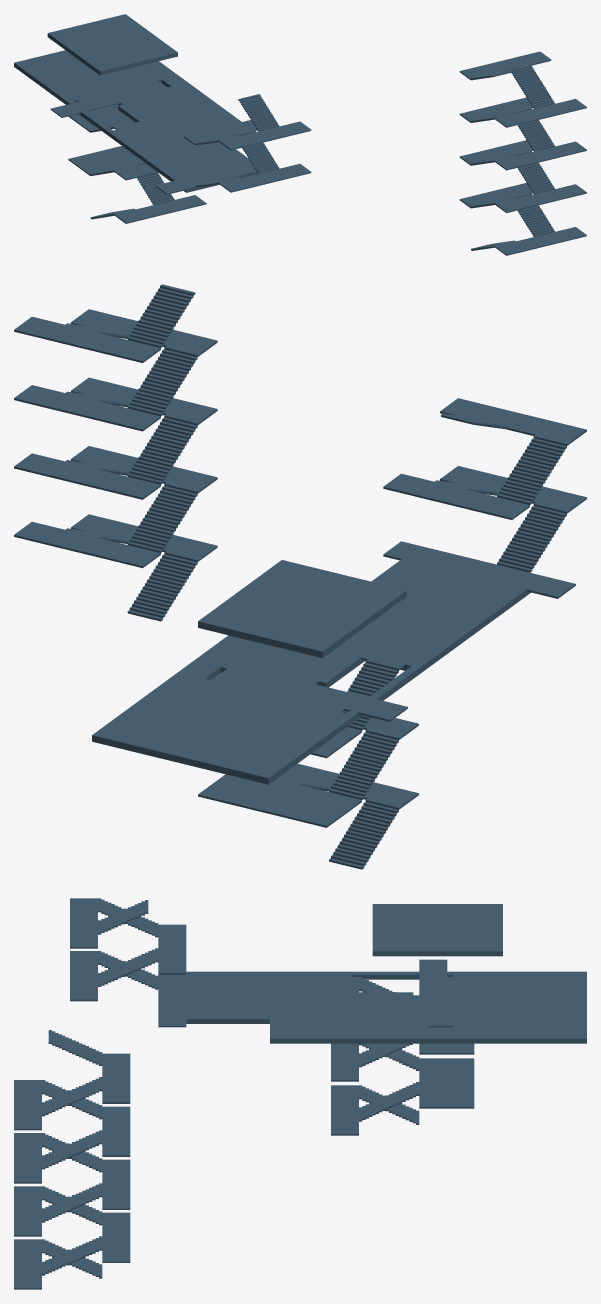
Rendered from v02-03-06-deck.glb.
3 renders of one model, top to bottom at view 1: azimuth 30°, elevation 25°; view 2: azimuth 150°, elevation 25°; view 3: azimuth 270°, elevation 25°, orthographic. The views are drawn at different scales.
Visible parts, largest first — view 1: v02-03-06-deck; view 2: v02-03-06-deck; view 3: v02-03-06-deck.
Part boxes in pixels (x1,y1,x2,y2): v02-03-06-deck: (14,14,586,255); v02-03-06-deck: (14,284,586,869); v02-03-06-deck: (14,898,586,1289).
Size of the model in its own units: 55.8 by 27.94 by 61.48.
